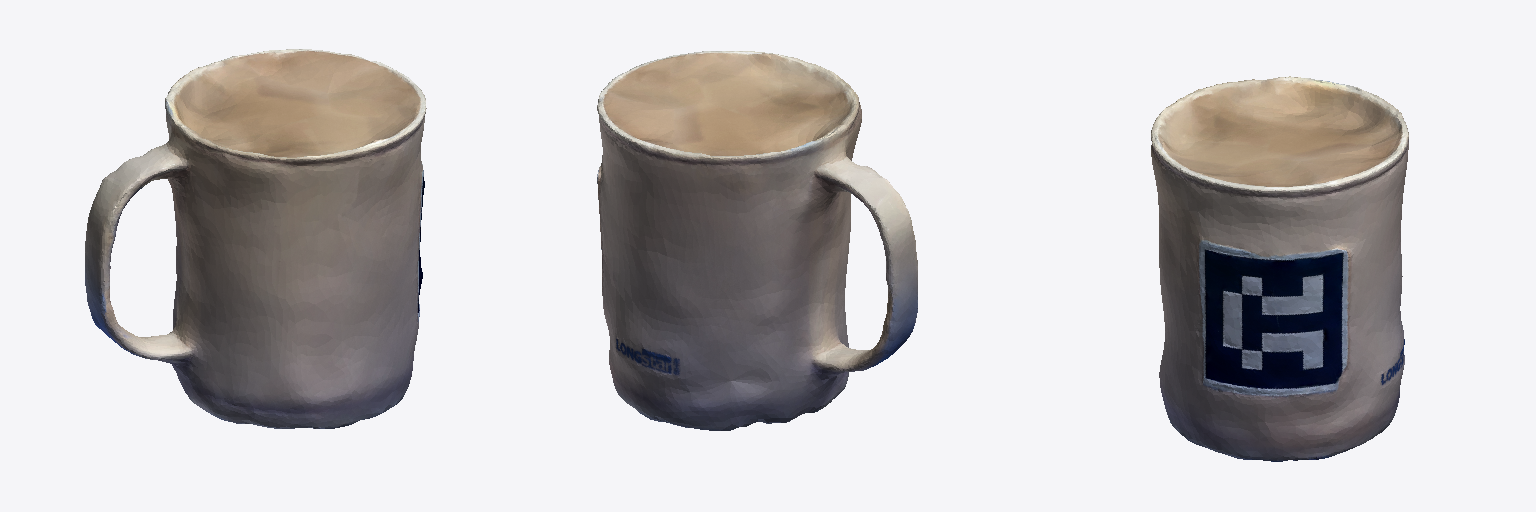
3 renders of one model, left to right at view 1: azimuth 30°, elevation 25°; view 2: azimuth 150°, elevation 25°; view 3: azimuth 270°, elevation 25°, orthographic.
Parts seen in each view (by area): view 1: Mesh; view 2: Mesh; view 3: Mesh.
Boxes of the visible parts, <box> form: Mesh: <box>85,49,426,428</box>; Mesh: <box>597,51,917,430</box>; Mesh: <box>1151,76,1408,461</box>.
Bounding box in the file's own units: 0.1167 × 0.1052 × 0.0849.
Materials: 1 (1 with a texture image).